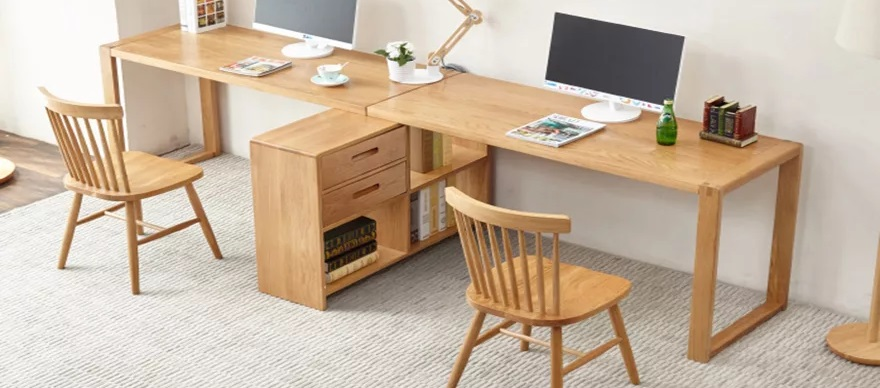seat: (433, 175, 645, 388), (35, 94, 212, 289)
table: (394, 58, 811, 327), (85, 16, 405, 175)
